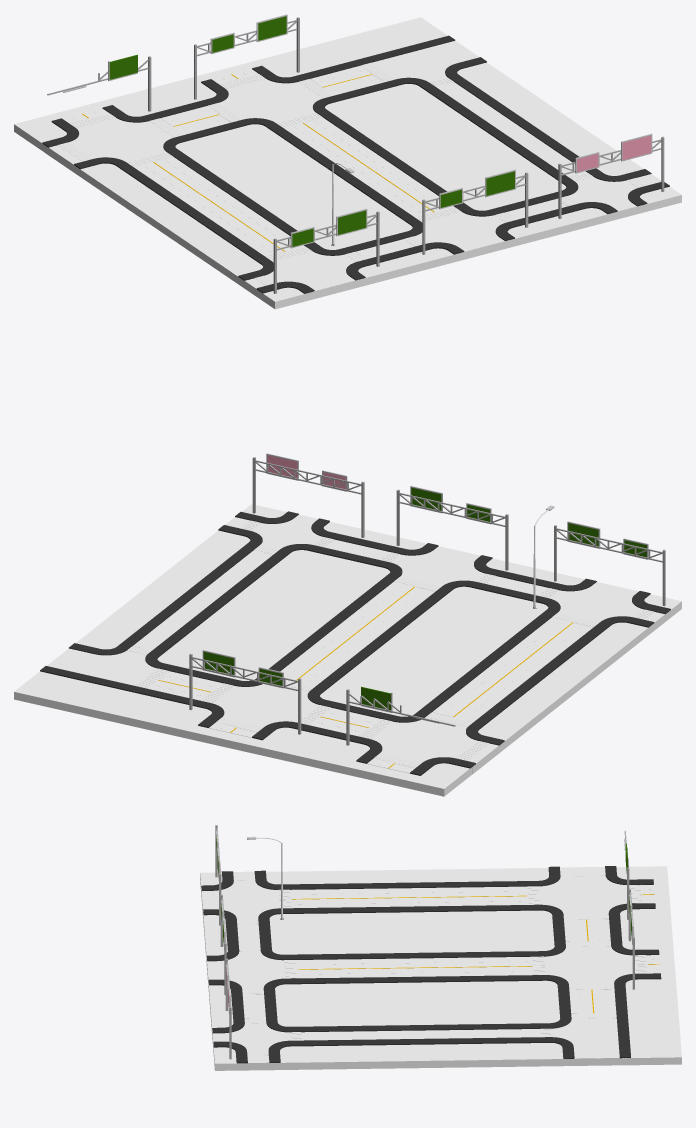
File: ground-world.glb
3 renders of one model, top to bottom at view 1: azimuth 30°, elevation 25°; view 2: azimuth 150°, elevation 25°; view 3: azimuth 270°, elevation 25°, orthographic. The views are drawn at different scales.
Visible parts, largest first — view 1: box.002, box.3265, box.3361, box.3313, box.001, box.4820, box.3685, box.3275, box.3272, box.3274, box.3277, box.3276 (+3 smaller); view 2: box.002, box.001, box.3265, box.3313, box.3361, box.3275, box.3685, box.4820, box.3272, box.3274, box.3277, box.3276 (+8 smaller); view 3: box.002, box.3313, box.3265, box.3361, box.001, box.3685, box.3275, box.4820, box.3276, box.3273, box.3271, box.3277 (+3 smaller).
Part boxes in pixels (x1,y1,x2,y2): box.002: (45, 62, 643, 287); box.3265: (49, 40, 479, 164); box.3361: (212, 69, 504, 251); box.3313: (63, 108, 354, 290); box.001: (14, 17, 447, 152); box.4820: (243, 186, 681, 309); box.3685: (245, 174, 661, 288); box.3275: (417, 69, 636, 211); box.3272: (116, 162, 270, 264); box.3274: (265, 123, 420, 224); box.3277: (419, 82, 574, 184); box.3276: (448, 75, 603, 176); box.002: (76, 530, 653, 773); box.001: (14, 671, 472, 796); box.3265: (47, 648, 498, 763); box.3313: (367, 582, 638, 773); box.3361: (209, 546, 480, 737); box.3275: (116, 514, 317, 663); box.3685: (225, 517, 664, 622); box.4820: (242, 504, 681, 631); box.3272: (469, 621, 611, 729); box.3274: (310, 586, 453, 693); box.3277: (148, 549, 290, 656); box.3276: (117, 542, 259, 649); box.002: (266, 868, 625, 1070); box.3313: (201, 884, 655, 909); box.3265: (560, 867, 619, 1058); box.3361: (207, 955, 660, 979); box.001: (616, 866, 681, 1065); box.3685: (233, 871, 269, 1063); box.3275: (212, 1028, 572, 1042); box.4820: (200, 872, 269, 1070); box.3276: (290, 1037, 550, 1046); box.3273: (285, 975, 545, 984); box.3271: (280, 904, 540, 913); box.3277: (289, 1023, 549, 1032).
Size of what is drawn, in the model's own units: 413 by 190 by 591.
